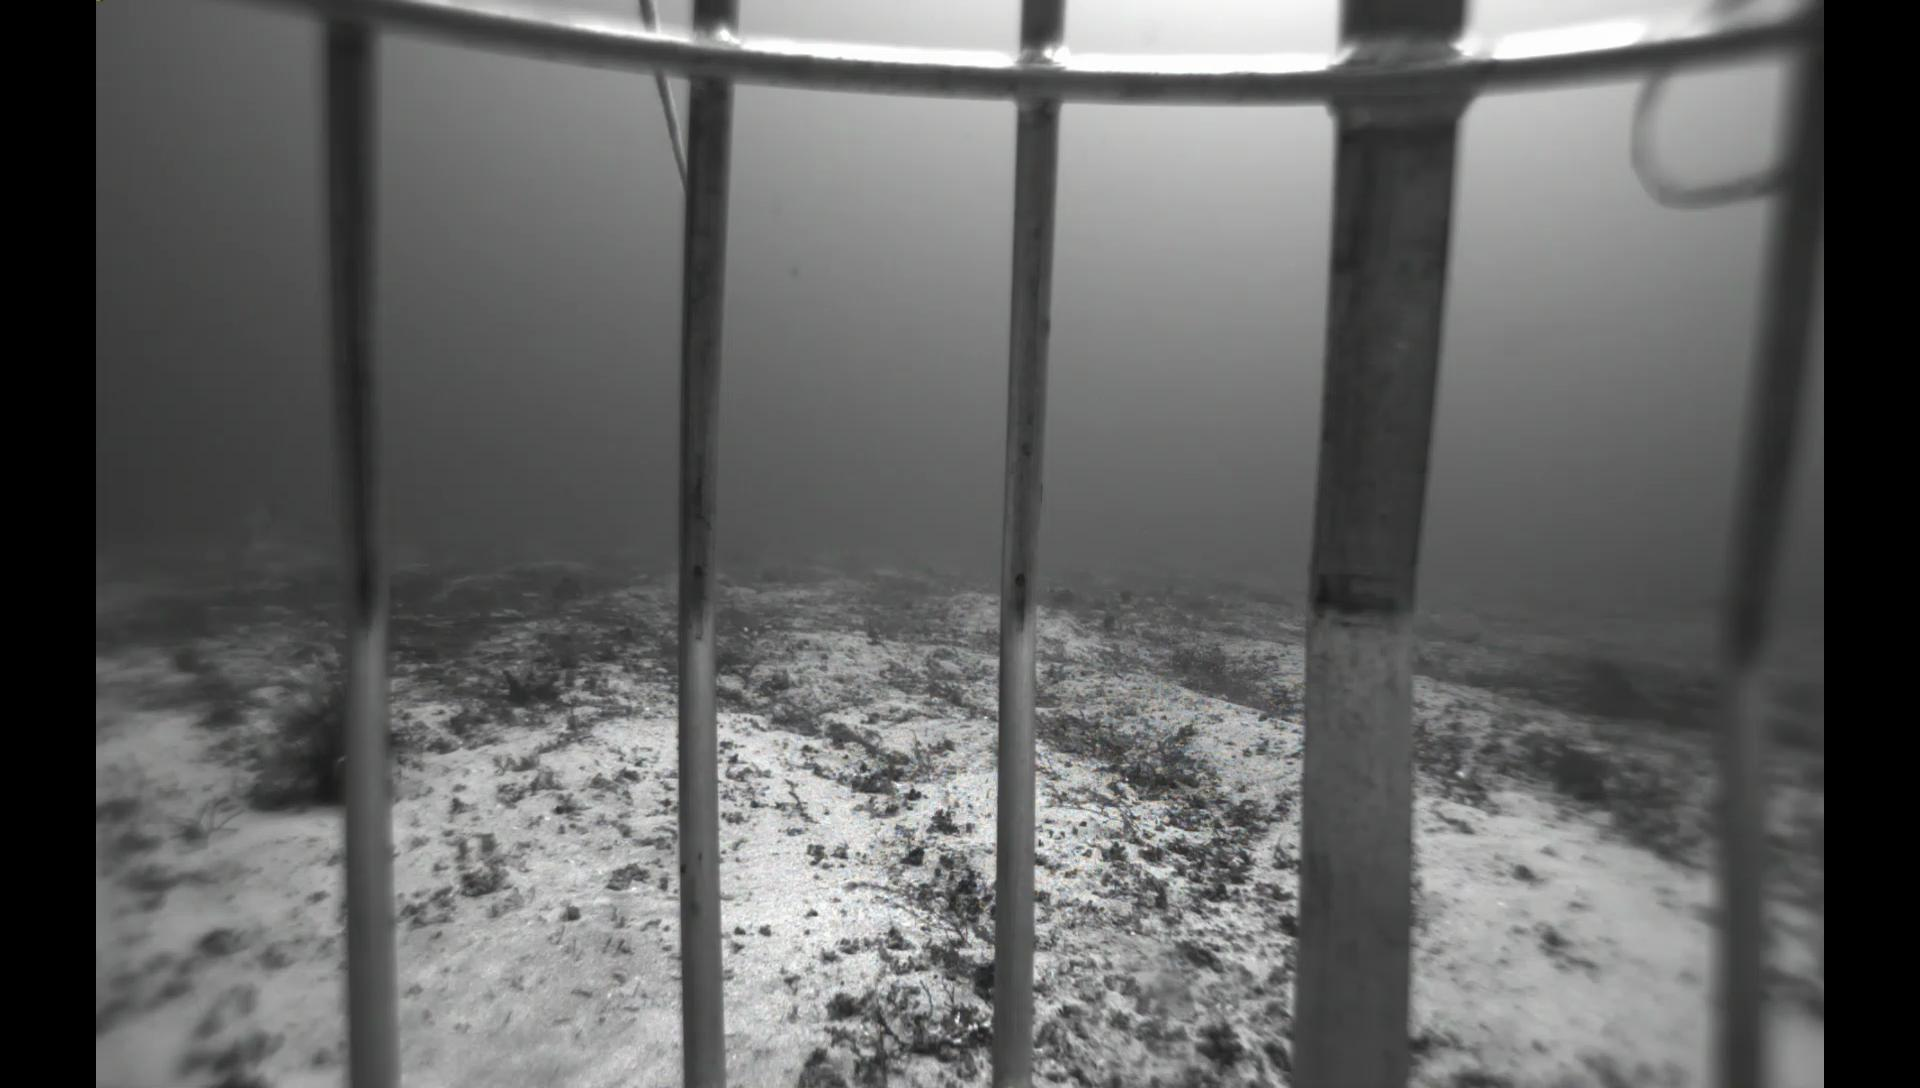EPINEPHELUSMORIO-170021211: (214, 473, 309, 599)
PTEROIS-168011900: (235, 645, 442, 810)
